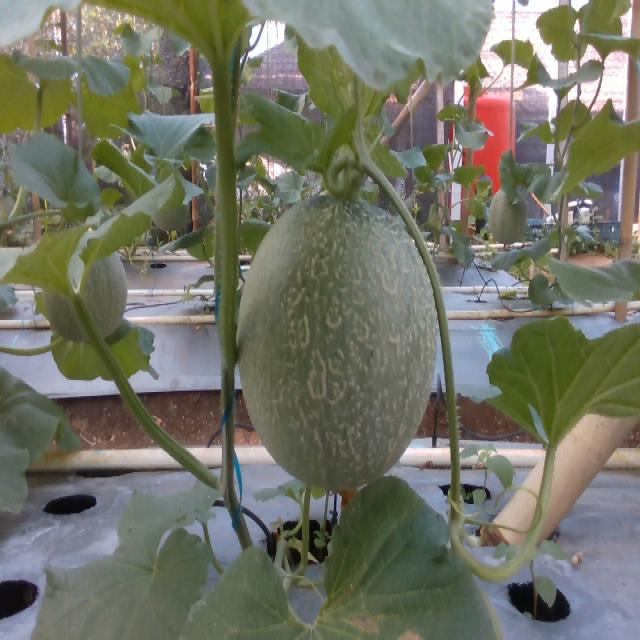melon: (237, 195, 438, 490)
